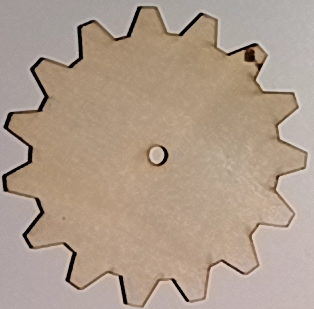Points: (241, 45, 264, 71)
